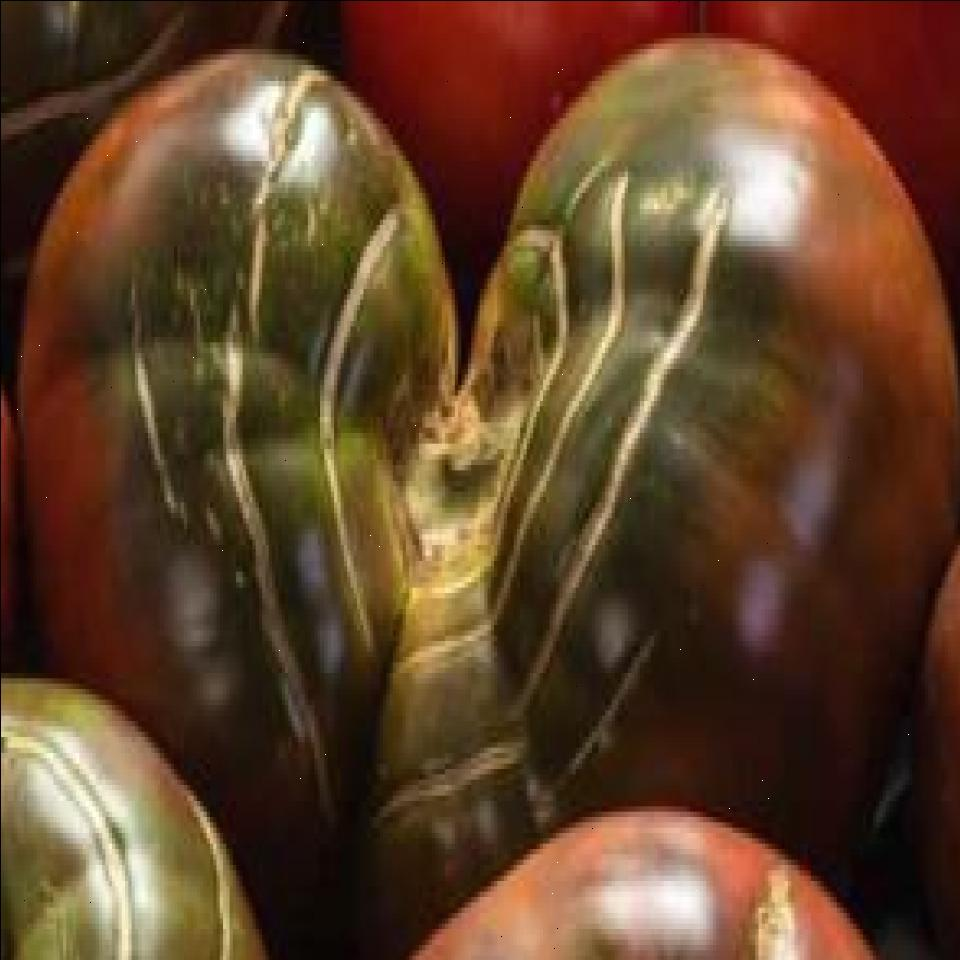Cracking: (502, 174, 760, 730), (112, 85, 405, 552), (272, 252, 577, 631), (268, 631, 624, 858), (7, 698, 161, 960), (192, 758, 238, 960)
